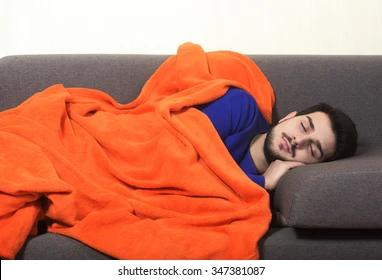blanket: (0, 41, 277, 260)
sweater: (194, 87, 271, 189)
